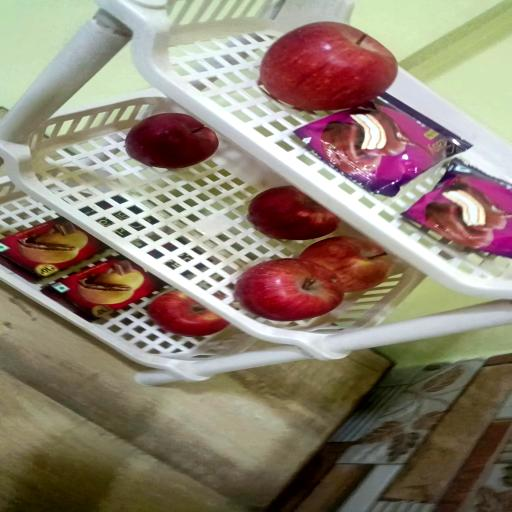Apple: (260, 22, 398, 112), (237, 260, 345, 322), (127, 112, 221, 168), (299, 238, 391, 294), (249, 188, 341, 243), (150, 292, 232, 338)
Choco Fills: (43, 260, 165, 322), (0, 218, 108, 283)
Choco Pie: (295, 94, 472, 196), (402, 162, 510, 260)
